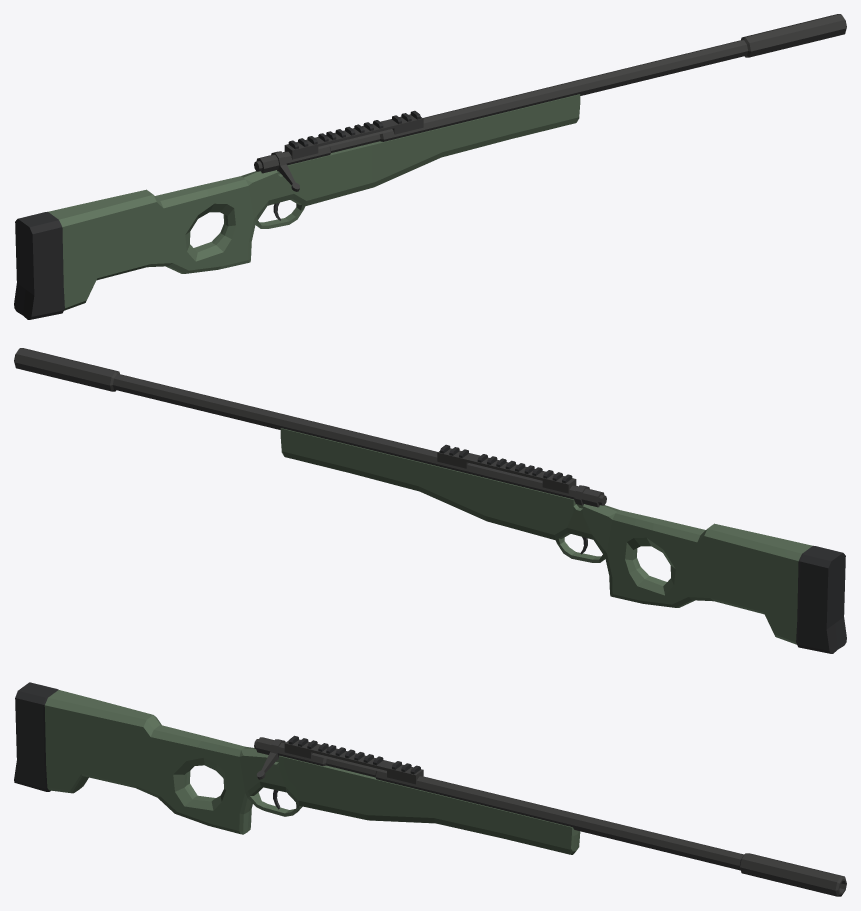
Rendered from SniperRifle (1).fbx.
3 renders of one model, top to bottom at view 1: azimuth 30°, elevation 25°; view 2: azimuth 150°, elevation 25°; view 3: azimuth 330°, elevation 25°, orthographic.
Parts seen in each view (by area): view 1: SniperRifle_3; view 2: SniperRifle_3; view 3: SniperRifle_3.
Part boxes in pixels (bbox=[...]): SniperRifle_3: bbox=[14, 14, 846, 319]; SniperRifle_3: bbox=[14, 348, 846, 653]; SniperRifle_3: bbox=[14, 682, 846, 896].
Bounding box in the file's own units: 724 × 91.39 × 43.96.
